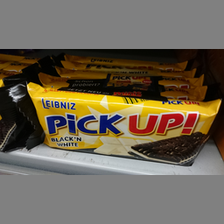chocolate: (11, 84, 216, 166)
